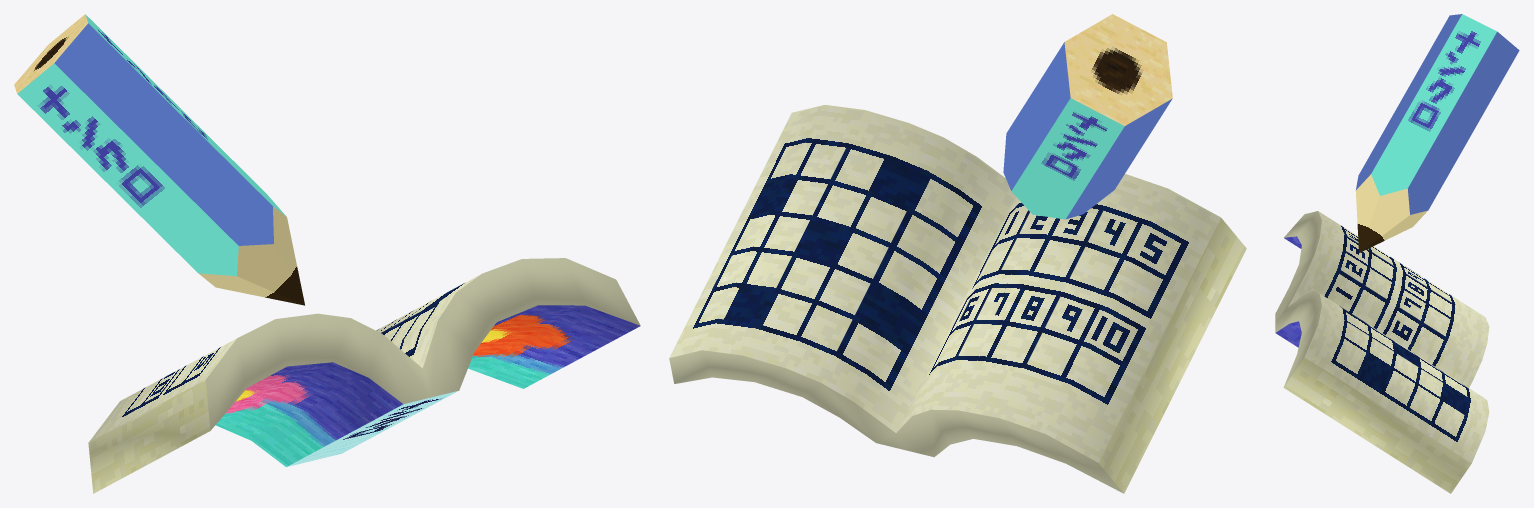
File: ps2_save-icons_thecrossword.glb
The picture shows the model from 3 angles, left to right: view 1: azimuth 30°, elevation 25°; view 2: azimuth 150°, elevation 25°; view 3: azimuth 270°, elevation 25°; orthographic projection. The views are drawn at different scales.
Visible parts, largest first — view 1: N_ICON00.ICO; view 2: N_ICON00.ICO; view 3: N_ICON00.ICO.
Part boxes in pixels (left/top/right/bottom): N_ICON00.ICO: left=14, top=14, right=640, bottom=493; N_ICON00.ICO: left=669, top=14, right=1246, bottom=493; N_ICON00.ICO: left=1275, top=14, right=1519, bottom=493.
Size of the model in its own units: 3.59 by 3.34 by 2.17.
Materials: 1 (1 with a texture image).
